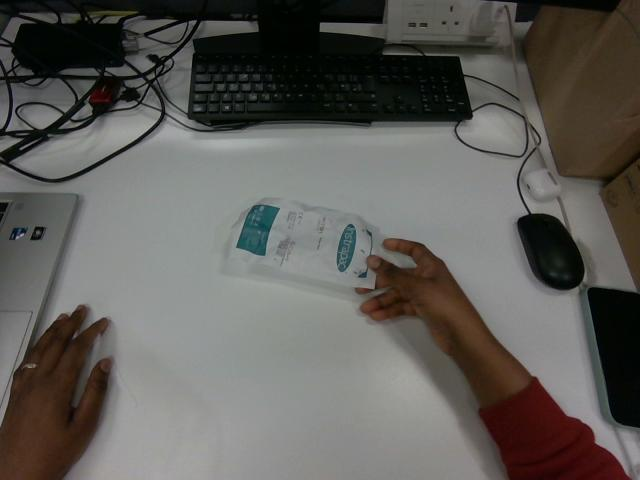gallipot: (231, 198, 378, 287)
